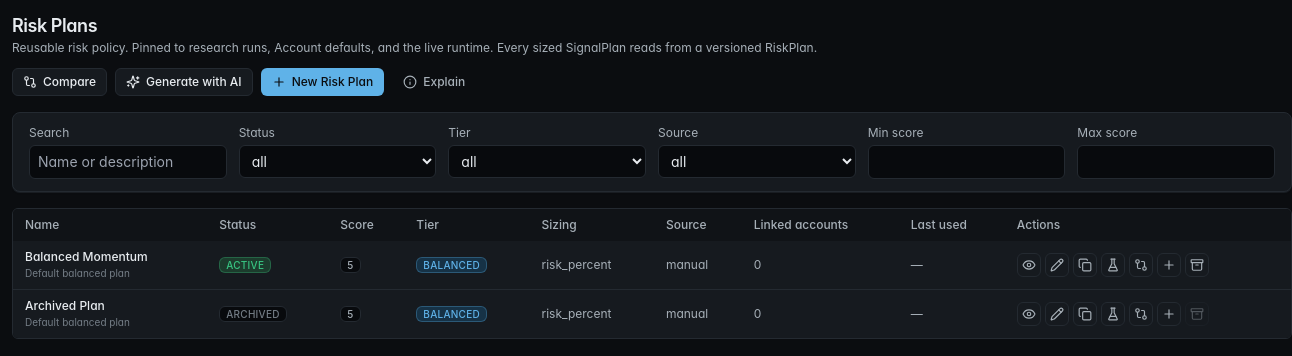
Scenario: <RiskPlans /> › filters by status
The image size is (1292, 356).
Expected: the link "Balanced Momentum" is shown, [25, 249, 148, 264]
Expected: the link "Archived Plan" is shown, [25, 298, 105, 313]
Select "active" in the dropdown labelled "Status" at (338, 162), box [239, 145, 436, 178]
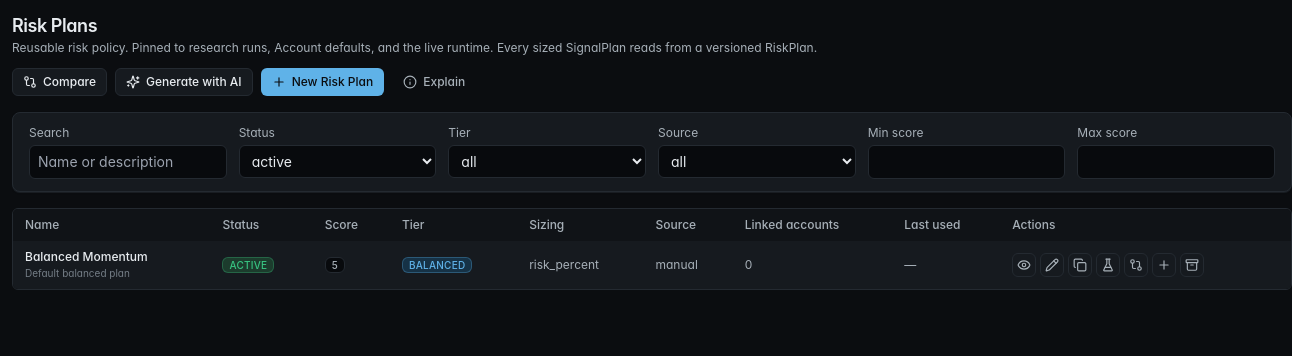
Expected: the link "Balanced Momentum" is shown, [25, 249, 148, 264]
Now the link "Archived Plan" is gone
